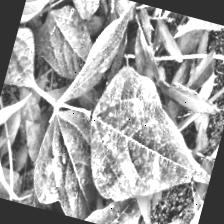Bean Rust: (75, 50, 224, 224), (51, 0, 151, 127), (24, 108, 115, 222), (28, 0, 107, 89), (75, 181, 150, 224), (0, 178, 51, 210)
